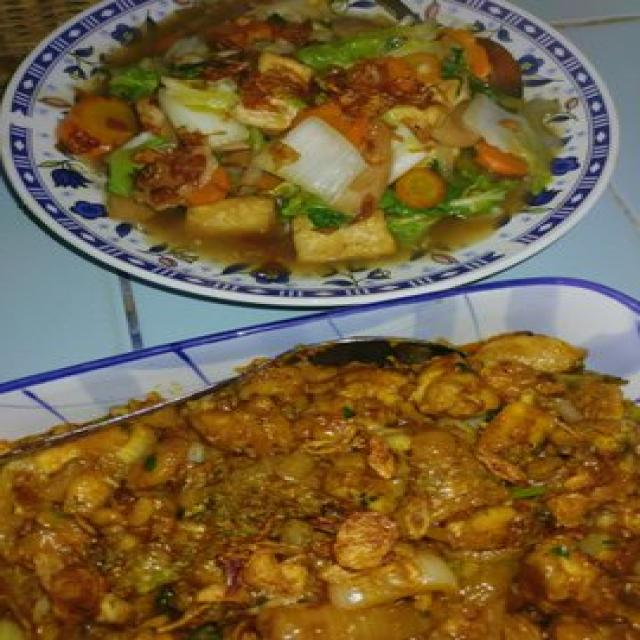capcay: (19, 0, 585, 306)
